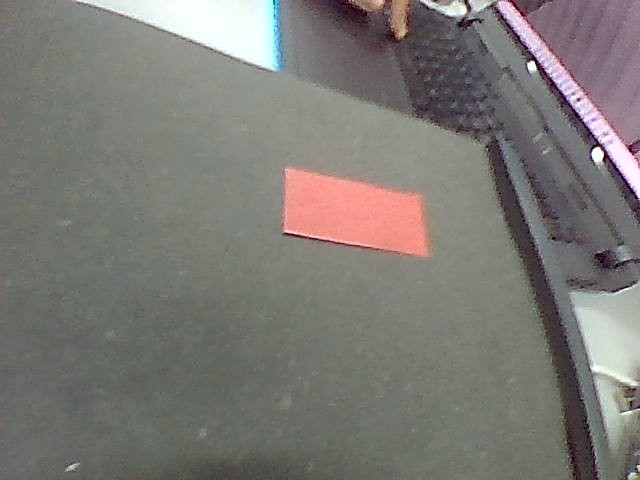card: (284, 167, 429, 256)
